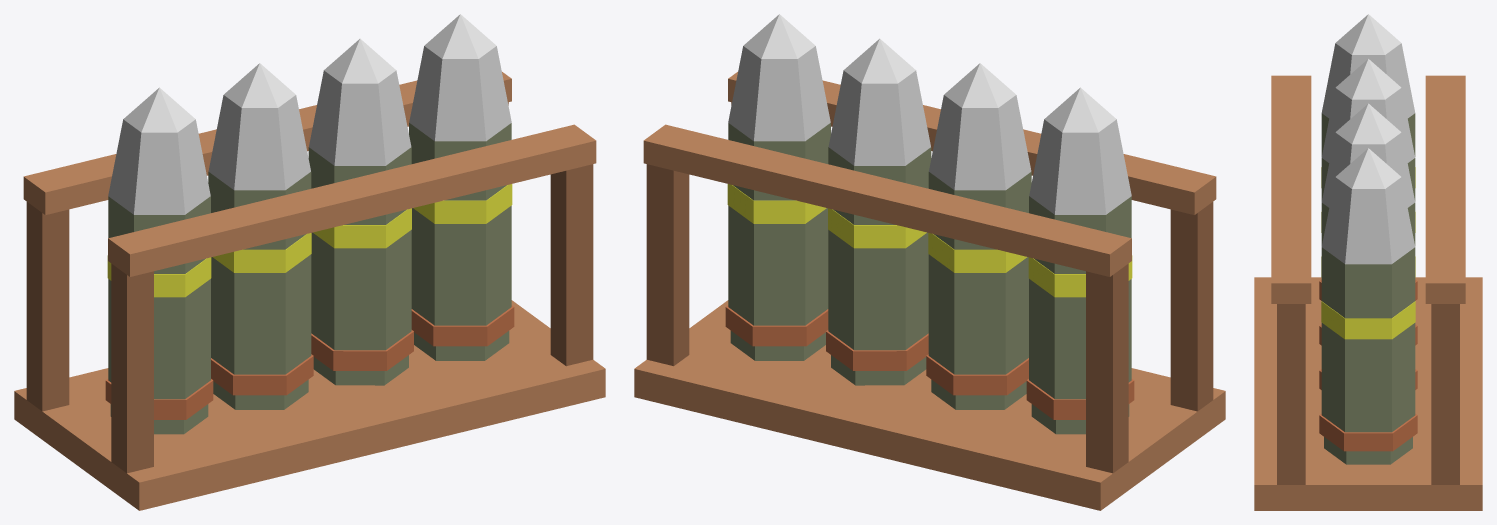
File: ce_ammo_artillery_he_c.obj
The picture shows the model from 3 angles, left to right: view 1: azimuth 30°, elevation 25°; view 2: azimuth 150°, elevation 25°; view 3: azimuth 270°, elevation 25°; orthographic projection. The views are drawn at different scales.
Visible parts, largest first — view 1: ce_ammo_artillery_he_c_0, ce_ammo_artillery_he_c_1, ce_ammo_artillery_he_c_23, ce_ammo_artillery_he_c_16, ce_ammo_artillery_he_c_30, ce_ammo_artillery_he_c_4, ce_ammo_artillery_he_c_5, ce_ammo_artillery_he_c_3, ce_ammo_artillery_he_c_19, ce_ammo_artillery_he_c_33, ce_ammo_artillery_he_c_12, ce_ammo_artillery_he_c_26 (+22 smaller); view 2: ce_ammo_artillery_he_c_0, ce_ammo_artillery_he_c_2, ce_ammo_artillery_he_c_23, ce_ammo_artillery_he_c_16, ce_ammo_artillery_he_c_30, ce_ammo_artillery_he_c_3, ce_ammo_artillery_he_c_6, ce_ammo_artillery_he_c_4, ce_ammo_artillery_he_c_19, ce_ammo_artillery_he_c_33, ce_ammo_artillery_he_c_12, ce_ammo_artillery_he_c_26 (+22 smaller); view 3: ce_ammo_artillery_he_c_0, ce_ammo_artillery_he_c_1, ce_ammo_artillery_he_c_2, ce_ammo_artillery_he_c_30, ce_ammo_artillery_he_c_33, ce_ammo_artillery_he_c_5, ce_ammo_artillery_he_c_6, ce_ammo_artillery_he_c_32, ce_ammo_artillery_he_c_19, ce_ammo_artillery_he_c_26, ce_ammo_artillery_he_c_12, ce_ammo_artillery_he_c_31 (+9 smaller).
Part boxes in pixels (x1,y1,x2,y2): ce_ammo_artillery_he_c_0: (14, 300, 605, 510); ce_ammo_artillery_he_c_1: (108, 124, 596, 276); ce_ammo_artillery_he_c_23: (311, 230, 411, 350); ce_ammo_artillery_he_c_16: (211, 254, 311, 374); ce_ammo_artillery_he_c_30: (411, 205, 511, 325); ce_ammo_artillery_he_c_4: (26, 202, 69, 411); ce_ammo_artillery_he_c_5: (550, 164, 593, 366); ce_ammo_artillery_he_c_3: (111, 263, 153, 473); ce_ammo_artillery_he_c_19: (208, 95, 310, 190); ce_ammo_artillery_he_c_33: (409, 46, 511, 141); ce_ammo_artillery_he_c_12: (108, 119, 210, 214); ce_ammo_artillery_he_c_26: (309, 70, 411, 165); ce_ammo_artillery_he_c_0: (634, 300, 1225, 510); ce_ammo_artillery_he_c_2: (643, 124, 1131, 276); ce_ammo_artillery_he_c_23: (828, 230, 928, 350); ce_ammo_artillery_he_c_16: (928, 254, 1028, 374); ce_ammo_artillery_he_c_30: (728, 205, 828, 325); ce_ammo_artillery_he_c_3: (1170, 202, 1213, 411); ce_ammo_artillery_he_c_6: (646, 164, 689, 366); ce_ammo_artillery_he_c_4: (1086, 263, 1128, 473); ce_ammo_artillery_he_c_19: (929, 95, 1031, 190); ce_ammo_artillery_he_c_33: (728, 46, 830, 141); ce_ammo_artillery_he_c_12: (1029, 119, 1131, 214); ce_ammo_artillery_he_c_26: (828, 70, 930, 165); ce_ammo_artillery_he_c_0: (1254, 277, 1482, 510); ce_ammo_artillery_he_c_1: (1271, 75, 1311, 303); ce_ammo_artillery_he_c_2: (1425, 75, 1465, 303); ce_ammo_artillery_he_c_30: (1321, 323, 1415, 432); ce_ammo_artillery_he_c_33: (1321, 177, 1415, 264); ce_ammo_artillery_he_c_5: (1277, 304, 1305, 484); ce_ammo_artillery_he_c_6: (1431, 304, 1459, 484); ce_ammo_artillery_he_c_32: (1321, 247, 1415, 318); ce_ammo_artillery_he_c_19: (1321, 88, 1415, 162); ce_ammo_artillery_he_c_26: (1321, 132, 1415, 207); ce_ammo_artillery_he_c_12: (1321, 43, 1415, 118); ce_ammo_artillery_he_c_31: (1321, 301, 1415, 339).
Bounding box in the file's own units: 0.86 × 0.63 × 0.4.
